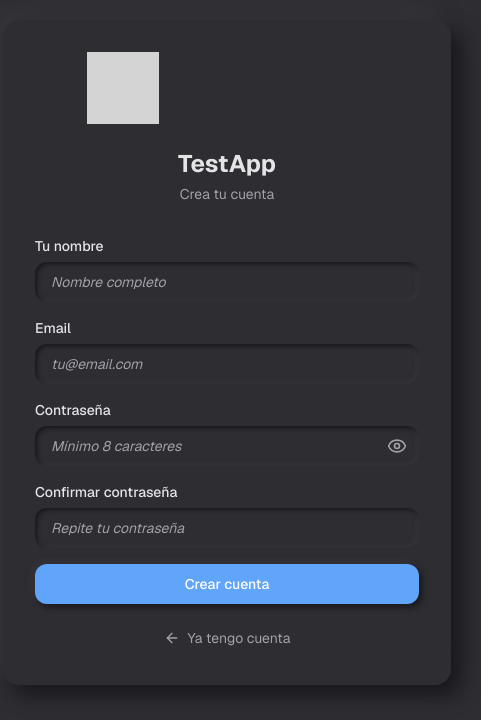
it: <RegisterForm /> › client validation › rejects names shorter than 2 chars
Type "J" into the field labelled "Tu nombre". click: [227, 282]
box: [35,262,419,302]
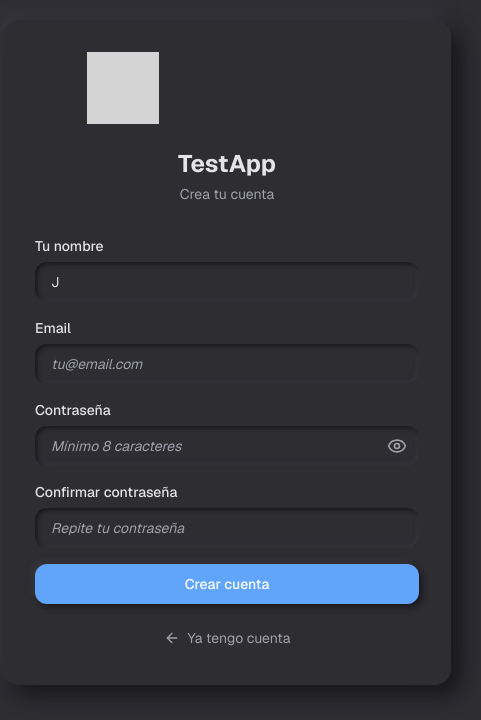
Type "jane@test.com" into the field labelled "Email". click: [227, 364]
box: [35,344,419,384]
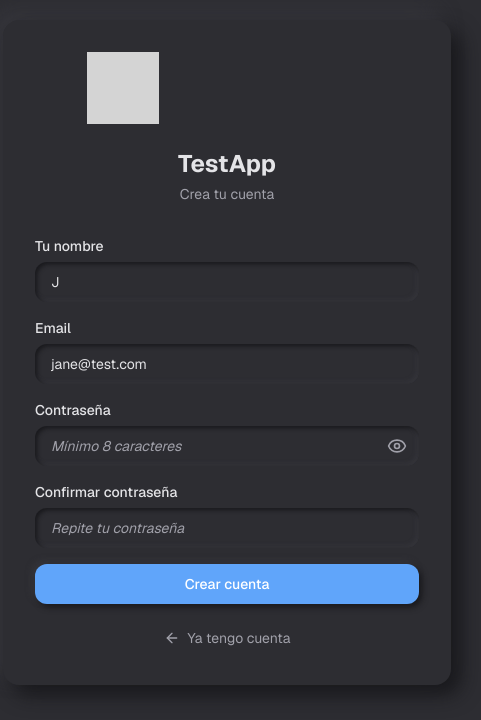
Type "password123" into the password field labelled "Contraseña". click: [227, 446]
box: [35,426,419,466]
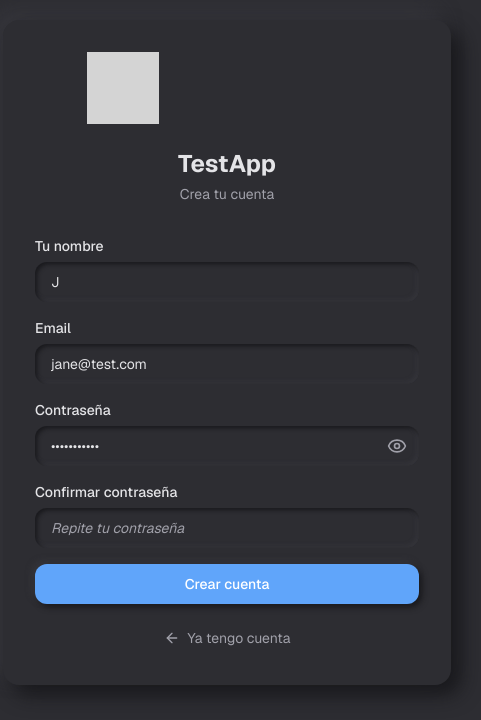
Type "password123" into the password field labelled "Confirmar contraseña". click: [227, 528]
box: [35,508,419,548]
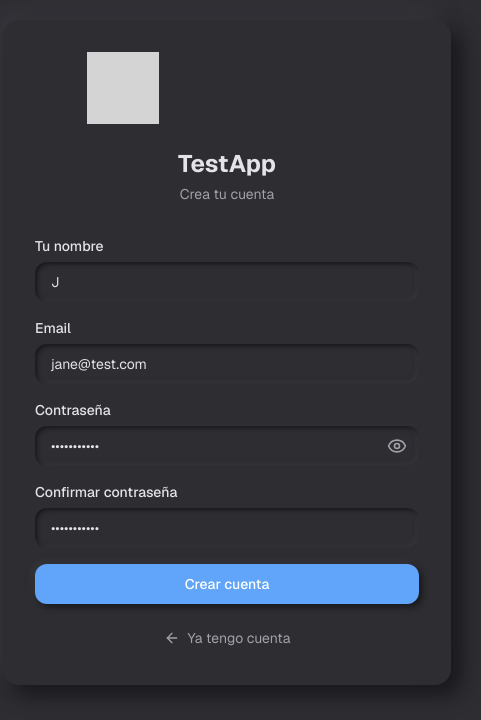
Click the button "Crear cuenta". click: [227, 584]
box: [35,564,419,604]
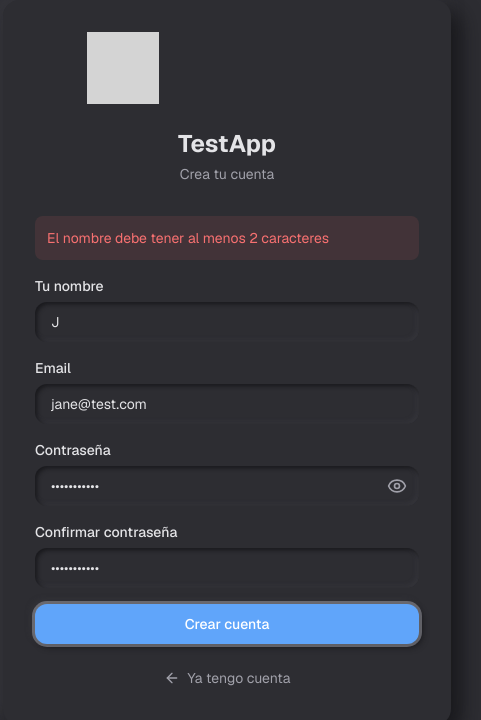
Expected: the text "El nombre debe tener al menos 2 caracteres" is shown, [35,216,419,260]
